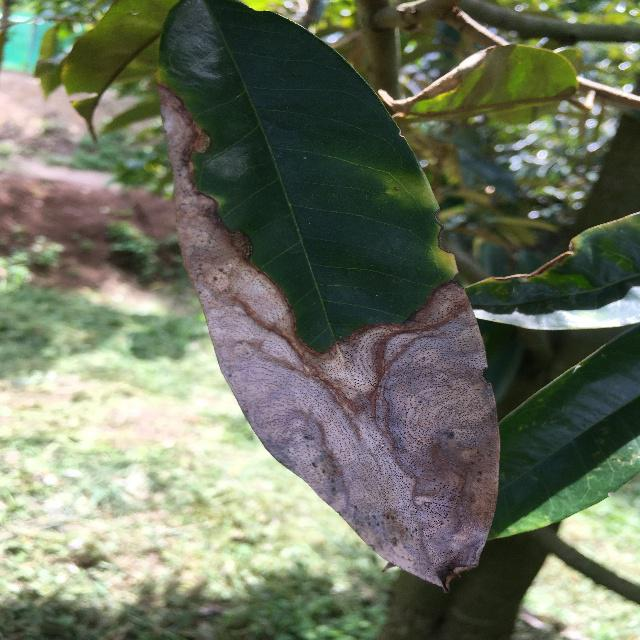Leaf Blight: (151, 0, 509, 598)
